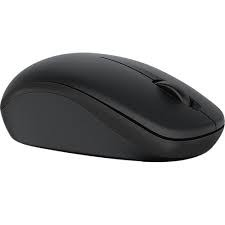mouse: (0, 51, 223, 164)
